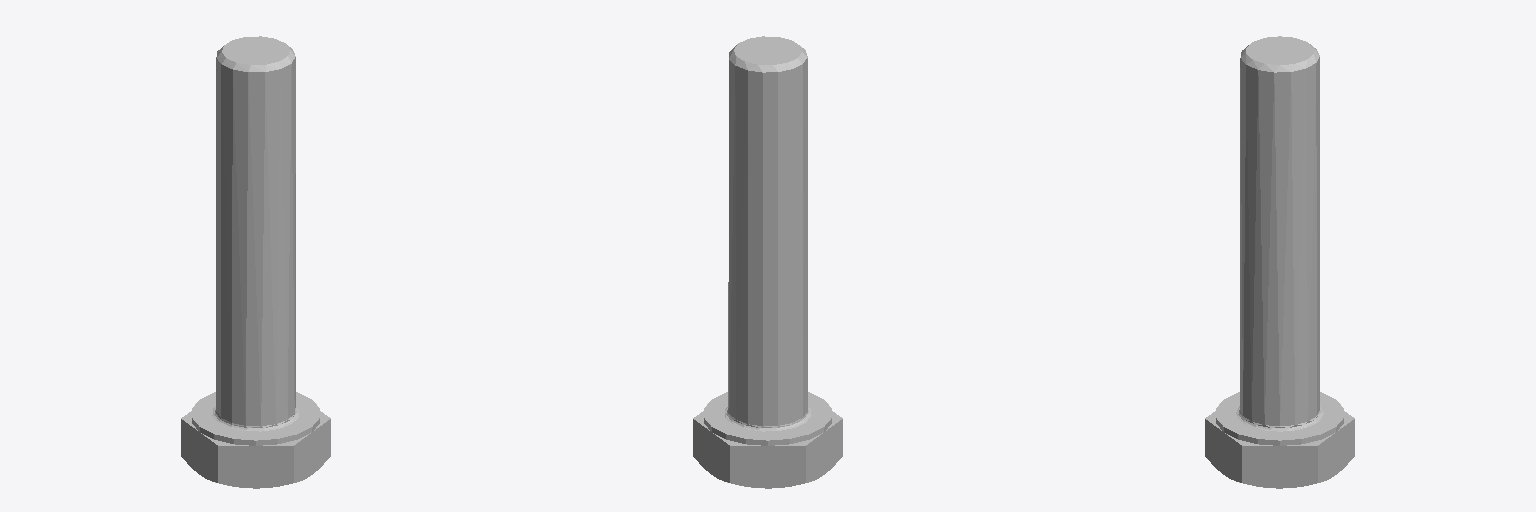
The model's file is Болт крепления крышки шатуна.obj.
The picture shows the model from 3 angles: view 1: azimuth 30°, elevation 25°; view 2: azimuth 150°, elevation 25°; view 3: azimuth 270°, elevation 25°; orthographic projection.
Parts seen in each view (by area): view 1: Болт_крепления_крышки_шатуна; view 2: Болт_крепления_крышки_шатуна; view 3: Болт_крепления_крышки_шатуна.
Boxes of the visible parts, x1=… form: Болт_крепления_крышки_шатуна: x1=181, y1=36, x2=330, y2=488; Болт_крепления_крышки_шатуна: x1=693, y1=36, x2=842, y2=488; Болт_крепления_крышки_шатуна: x1=1205, y1=36, x2=1354, y2=488.
Size of the model in its own units: 13 by 45.3 by 15.01.